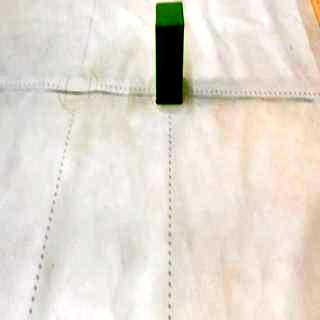greenbox: (154, 5, 183, 104)
